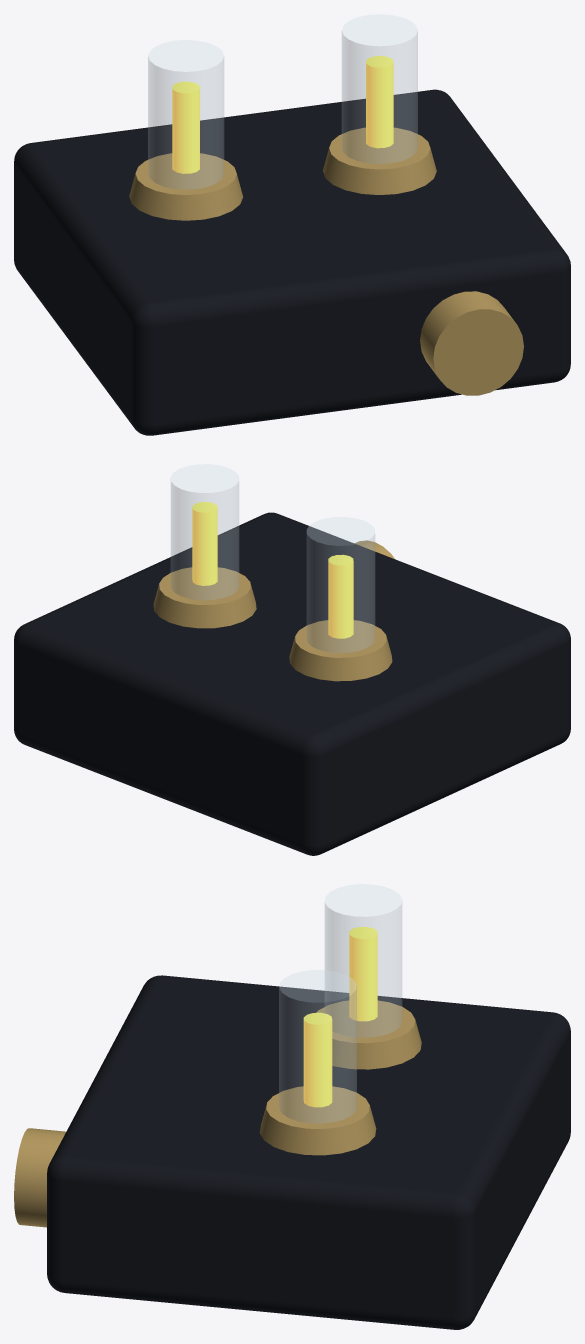
Rendered from atelier-decor-dac-heritage.glb.
3 views of the same model, one above another, from view 1: azimuth 30°, elevation 25°; view 2: azimuth 150°, elevation 25°; view 3: azimuth 270°, elevation 25° (orthographic). The views are drawn at different scales.
Bounding box in the file's own units: 0.1686 × 0.095 × 0.1712.
